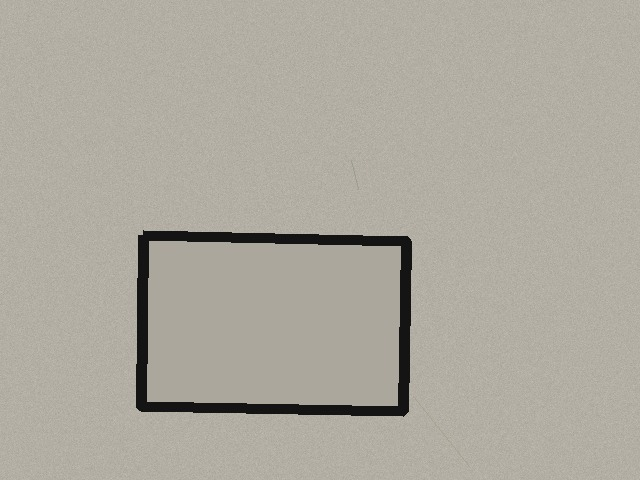parking_area: (141, 235, 406, 411)
